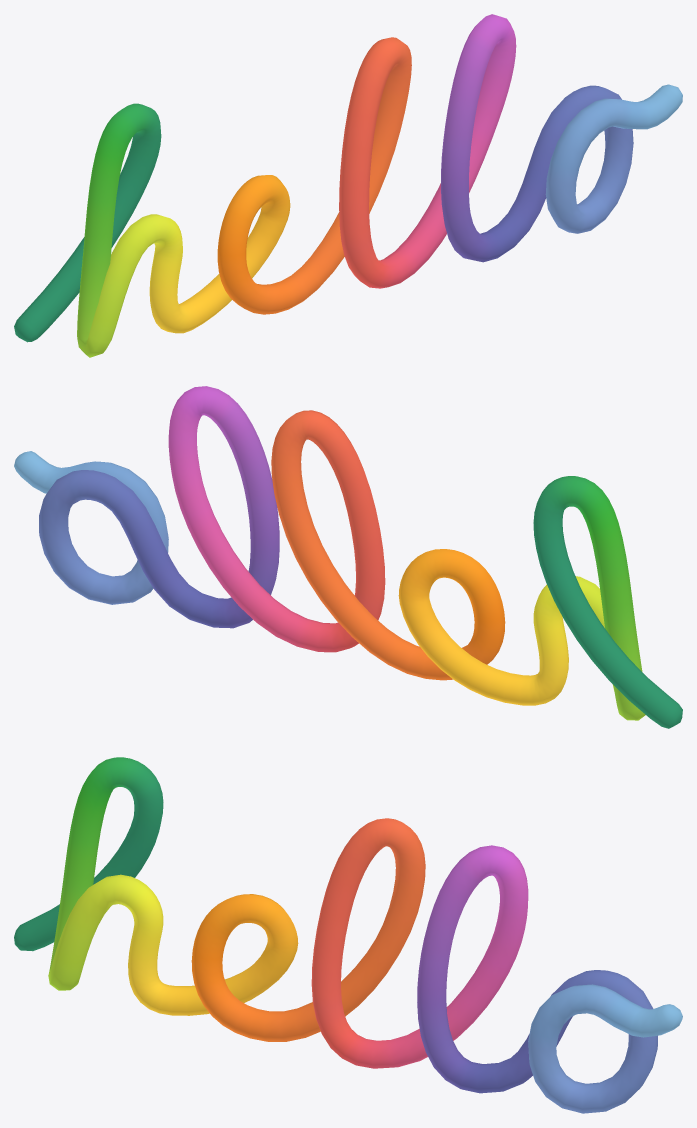
The picture shows the model from 3 angles, top to bottom: view 1: azimuth 30°, elevation 25°; view 2: azimuth 150°, elevation 25°; view 3: azimuth 330°, elevation 25°; orthographic projection. The views are drawn at different scales.
Visible parts, largest first — view 1: 2_Mesh; view 2: 2_Mesh; view 3: 2_Mesh.
Boxes of the visible parts, box(x1,y1,x2,y2) form: 2_Mesh: box(14, 14, 682, 357); 2_Mesh: box(14, 386, 682, 728); 2_Mesh: box(14, 757, 682, 1113).
Bounding box in the file's own units: 1.68 × 0.5832 × 0.1664.
1 material, 1 textured.
